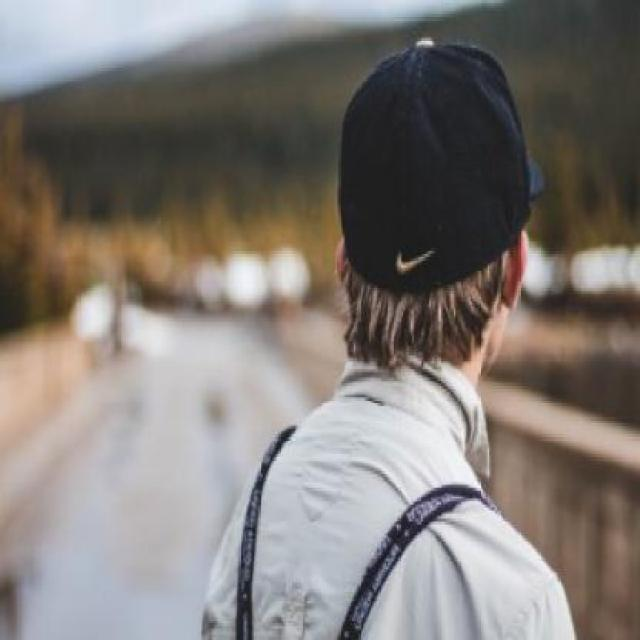Nike: (392, 242, 435, 273)
